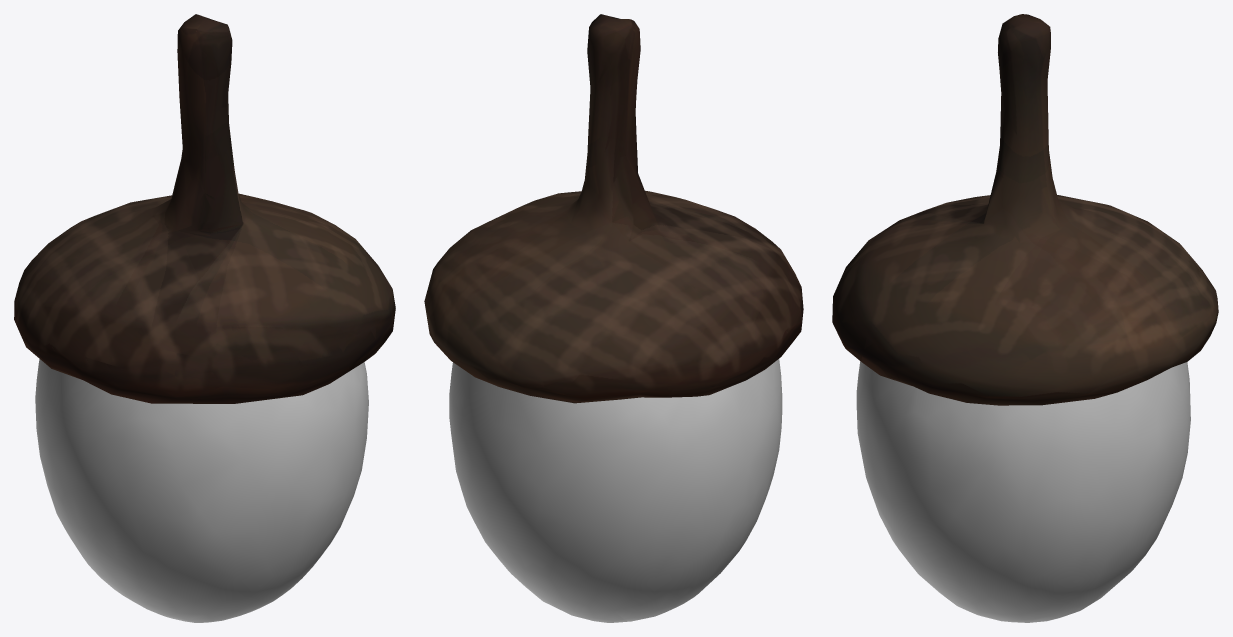
Rendered from Acorn.fbx.
3 views of the same model, side by side, from view 1: azimuth 30°, elevation 25°; view 2: azimuth 150°, elevation 25°; view 3: azimuth 270°, elevation 25° (orthographic).
Parts seen in each view (by area): view 1: Sphere.001, Sphere; view 2: Sphere.001, Sphere; view 3: Sphere.001, Sphere.
Part boxes in pixels (x1,y1,x2,y2): Sphere.001: (14,14,395,403); Sphere: (35,359,368,622); Sphere.001: (424,14,803,403); Sphere: (449,359,782,622); Sphere.001: (832,14,1218,405); Sphere: (856,361,1190,622).
Size of the model in its own units: 222 by 380 by 225.
